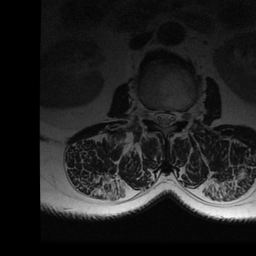CCS_normal: (161, 104, 168, 133)
LFS_normal: (176, 106, 184, 128)
LLS_normal: (168, 107, 176, 129)
RFS_normal: (144, 102, 152, 126)
RLS_normal: (153, 104, 160, 129)
